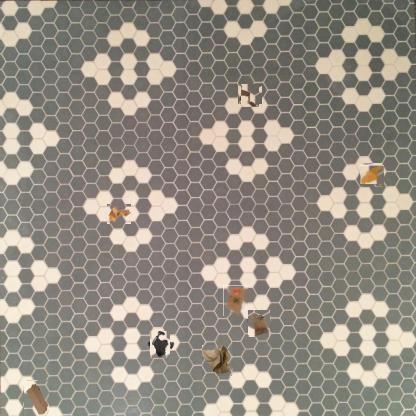dirty: (202, 346, 232, 378), (23, 380, 49, 416), (223, 285, 248, 316), (247, 311, 272, 336), (107, 204, 131, 224), (239, 85, 261, 105)
liquid: (148, 332, 172, 356), (362, 164, 383, 186)
